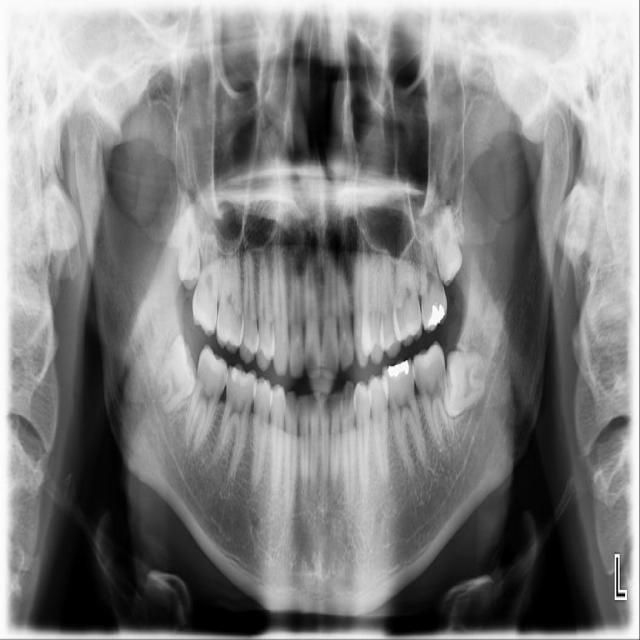Filling: (230, 368, 256, 390), (426, 302, 447, 329), (387, 359, 410, 379)
impacted tooth: (150, 326, 195, 415), (445, 350, 489, 418), (174, 193, 202, 286)
